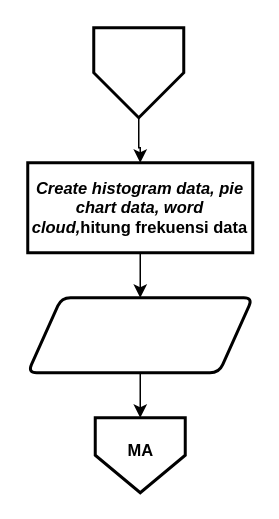
Image size: 279x519. Some labels were removed from this diagram. The shapes that lost their labels are listed below. From the top down, each one's centre as x and y in pixels, then its label:
At (138,72): "VH".
At (140,335): "Tampilkan halaman visualisasi hasil".
